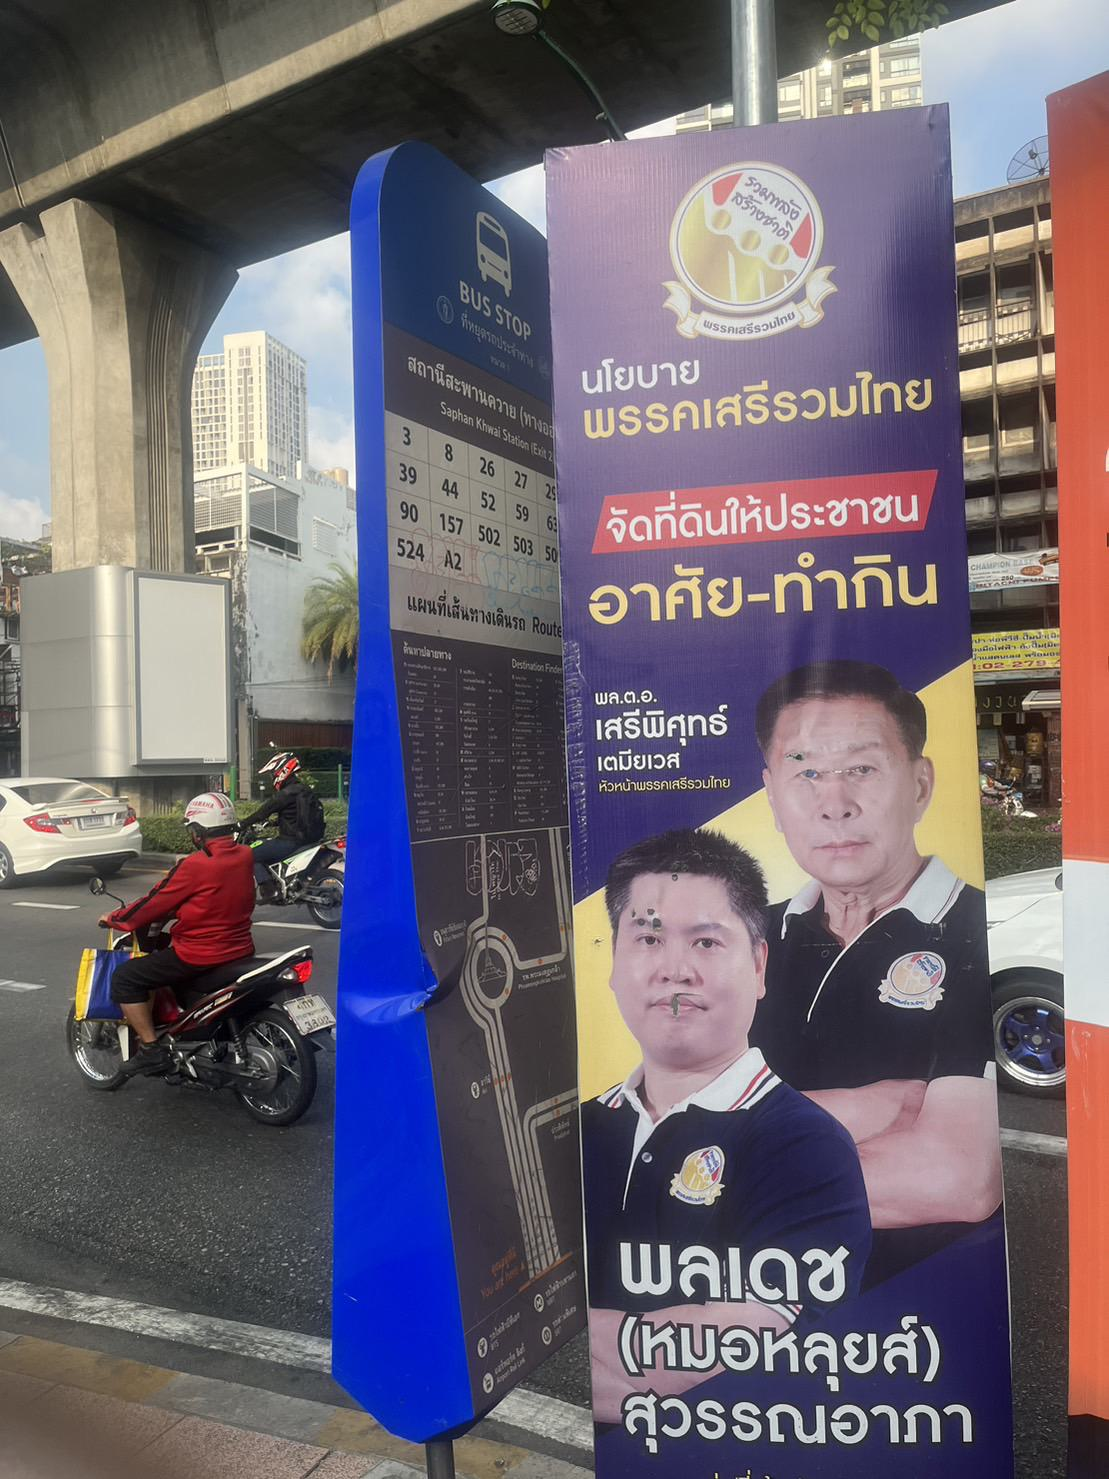Banner: (528, 136, 1044, 1479)
